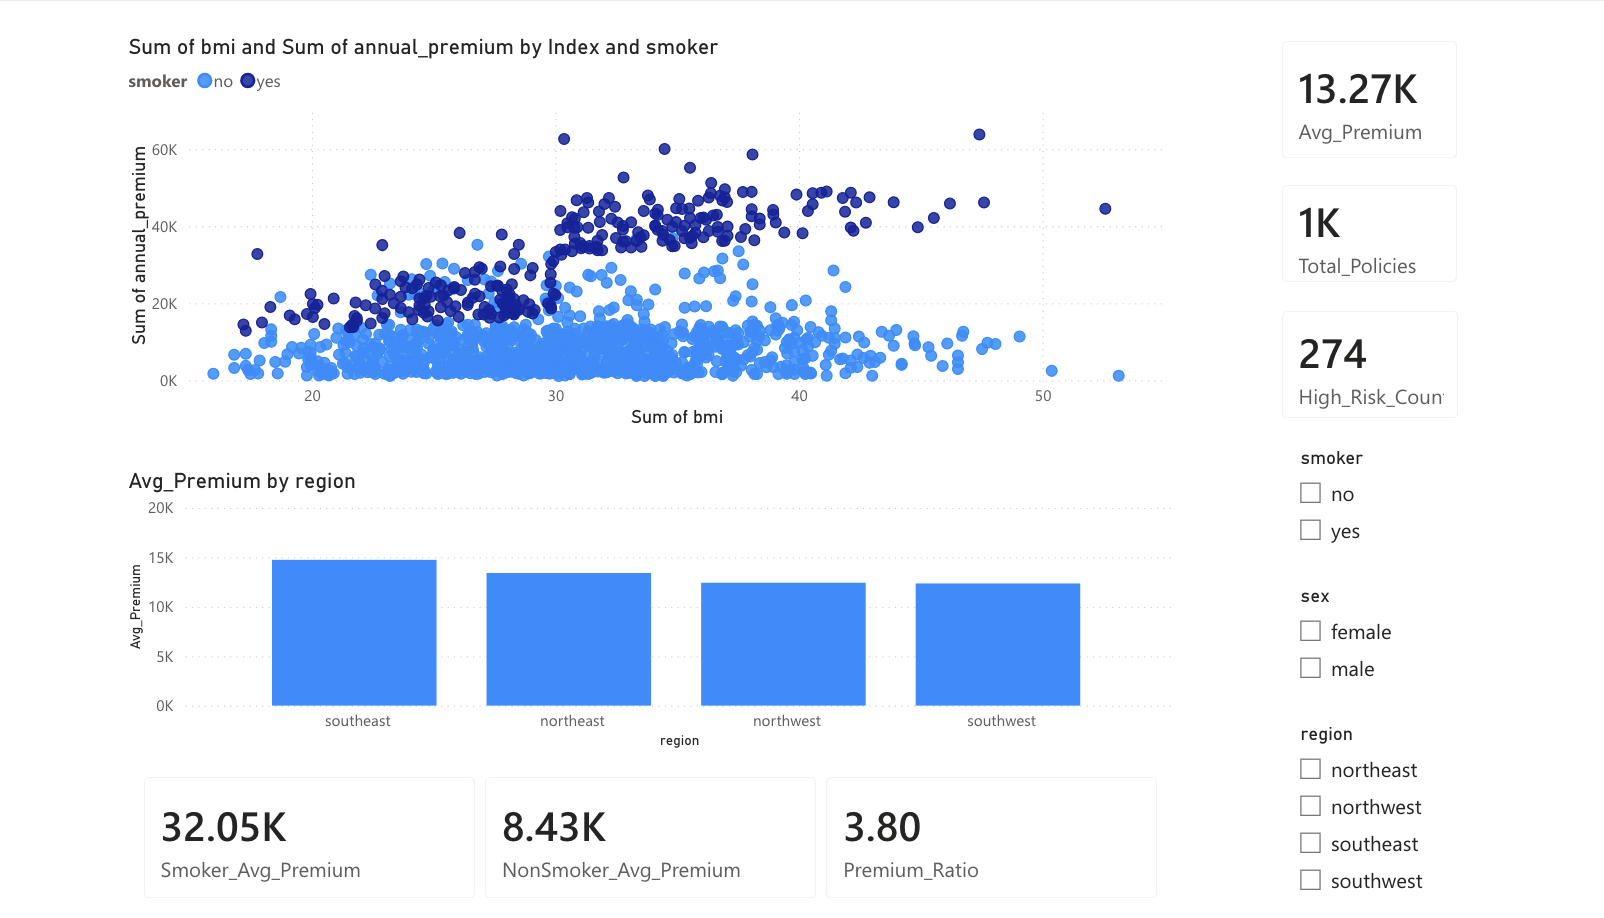

The page's visual inventory and layout, read from the dashboard file:
{"tool":"powerbi","page":{"name":"Page 1","canvas":[1280,720],"ordinal":0},"visuals":[{"type":"cardVisual","fields":{"Data":["insurance.Avg_Premium"]},"box":[9.9,0,171.6,126.2],"z":0},{"type":"cardVisual","fields":{"Data":["insurance.Total_Policies"]},"box":[9.9,126.2,171.6,110.4],"z":1000},{"type":"cardVisual","fields":{"Data":["insurance.High_Risk_Count"]},"box":[9.9,236.7,171.6,106.5],"z":2000},{"type":"scatterChart","fields":{"Category":["insurance.Index"],"Series":["insurance.smoker"],"X":["Sum(insurance.bmi)"],"Y":["Sum(insurance.annual_premium)"]},"box":[181.7,31.7,661.7,311.7],"z":3000},{"type":"clusteredColumnChart","fields":{"Category":["insurance.region"],"Y":["insurance.Avg_Premium"]},"box":[181.7,373.3,661.7,325],"z":3001},{"type":"slicer","fields":{"Values":["insurance.region"]},"box":[853.3,248.3,141.7,156.7],"z":3002},{"type":"slicer","fields":{"Values":["insurance.smoker"]},"box":[853.3,31.7,103.3,108.3],"z":3003},{"type":"slicer","fields":{"Values":["insurance.sex"]},"box":[853.3,140,103.3,108.3],"z":3004}]}

Visuals, with their boxes in screenshot pixels (x1, y1, x2, y2), scaled from the page's 1280x720 canvas onto the 1604x918 screenshot:
cardVisual - insurance.Avg_Premium: left=12, top=0, right=227, bottom=161
cardVisual - insurance.Total_Policies: left=12, top=161, right=227, bottom=302
cardVisual - insurance.High_Risk_Count: left=12, top=302, right=227, bottom=438
scatterChart - insurance.Index x insurance.smoker: left=228, top=40, right=1057, bottom=438
clusteredColumnChart - insurance.region x insurance.Avg_Premium: left=228, top=476, right=1057, bottom=890
slicer - insurance.region: left=1069, top=317, right=1247, bottom=516
slicer - insurance.smoker: left=1069, top=40, right=1199, bottom=178
slicer - insurance.sex: left=1069, top=178, right=1199, bottom=317
